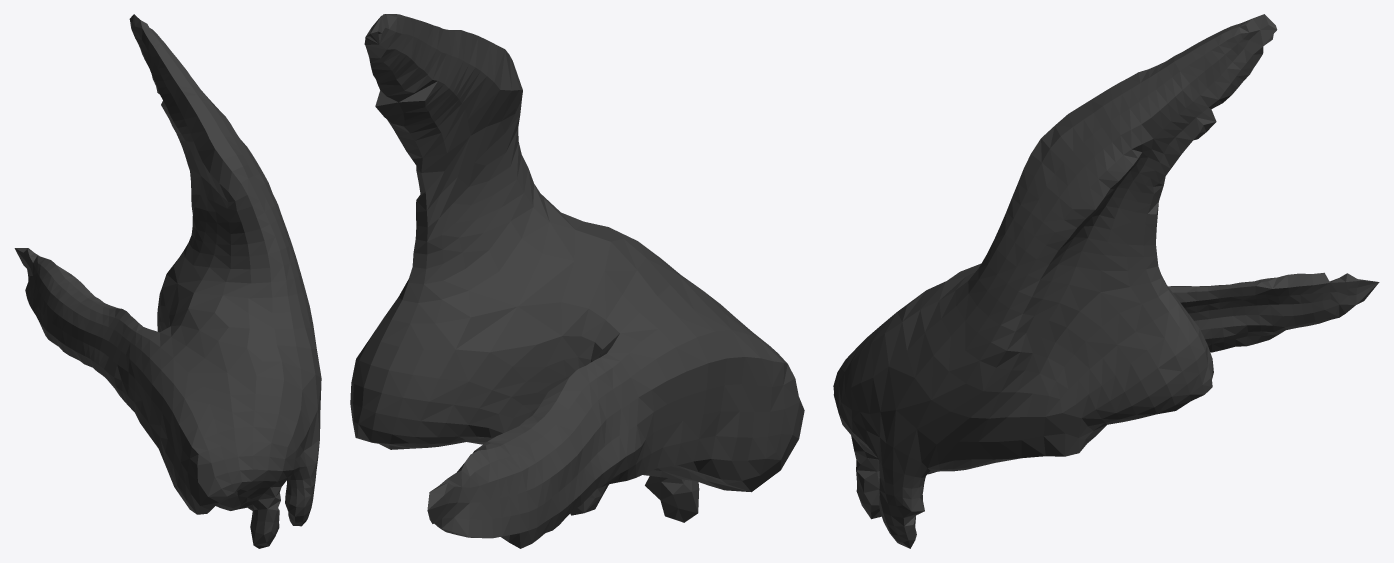
Rendered from Incisive_L.glb.
3 renders of one model, left to right at view 1: azimuth 30°, elevation 25°; view 2: azimuth 150°, elevation 25°; view 3: azimuth 270°, elevation 25°, orthographic. The views are drawn at different scales.
Parts seen in each view (by area): view 1: Incisive_L; view 2: Incisive_L; view 3: Incisive_L.
Boxes of the visible parts, x1,y1,x2,y2 form: Incisive_L: (14, 14, 321, 548); Incisive_L: (350, 14, 804, 548); Incisive_L: (833, 14, 1379, 548).
Bounding box in the file's own units: 102 × 240 × 228.
1 material, 1 textured.
